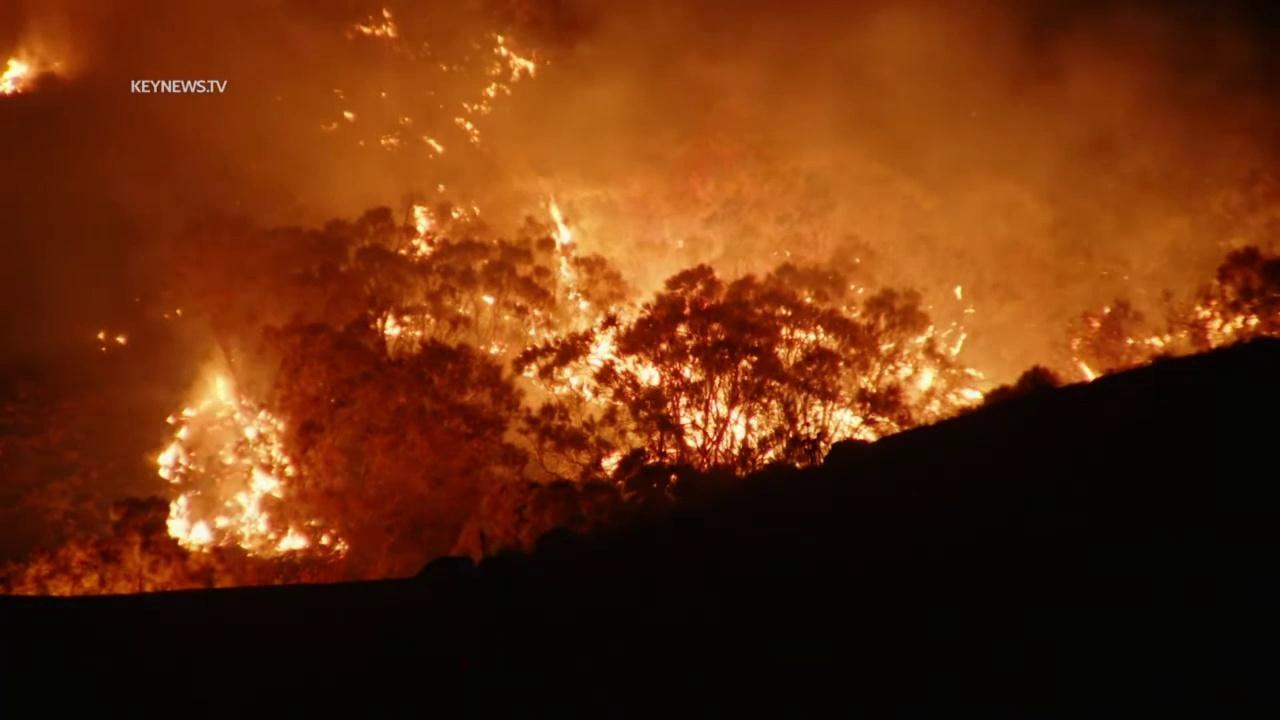fire: (516, 195, 990, 488), (148, 366, 350, 564), (1193, 299, 1262, 352), (485, 29, 542, 84), (393, 201, 441, 266), (371, 309, 439, 337), (462, 81, 514, 116), (1119, 327, 1190, 352), (0, 56, 35, 100), (358, 3, 398, 39), (449, 116, 482, 146), (476, 333, 511, 361), (1069, 357, 1103, 384), (422, 134, 445, 157), (1084, 315, 1104, 330), (449, 208, 466, 223), (479, 293, 497, 306), (112, 332, 127, 346), (343, 109, 356, 122), (173, 306, 186, 318), (95, 328, 105, 343), (1100, 303, 1113, 314), (378, 91, 391, 100), (436, 185, 446, 193), (99, 346, 107, 352)
smoke: (0, 0, 1280, 560)
